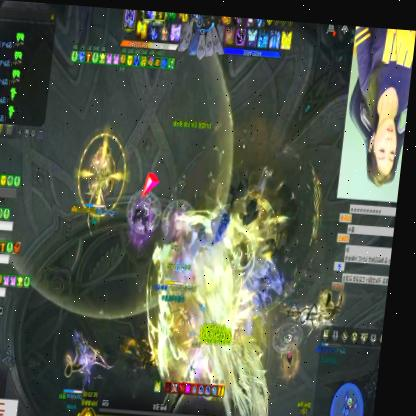streamer: (342, 21, 416, 182)
